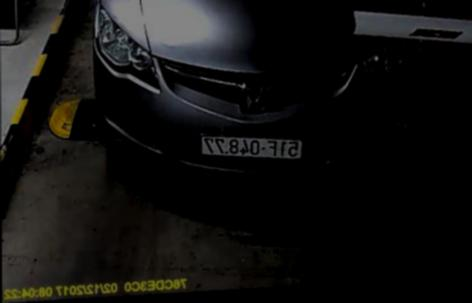License_Plate: (201, 128, 303, 163)
